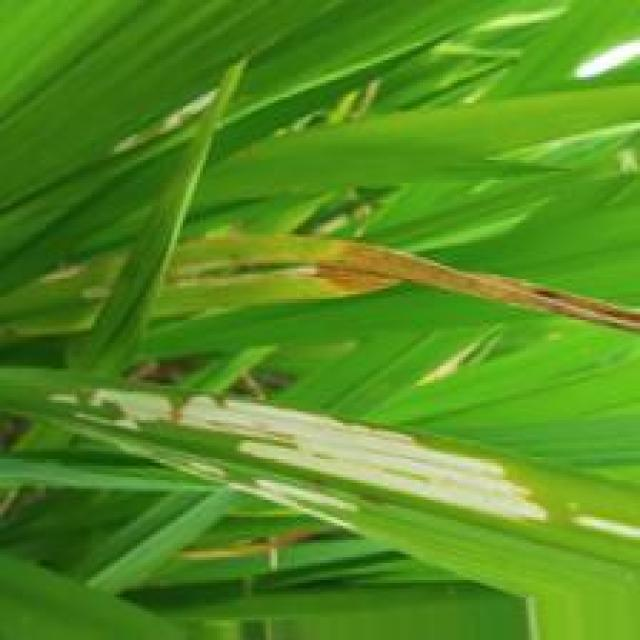Rice_Hispa: (93, 383, 557, 517)
